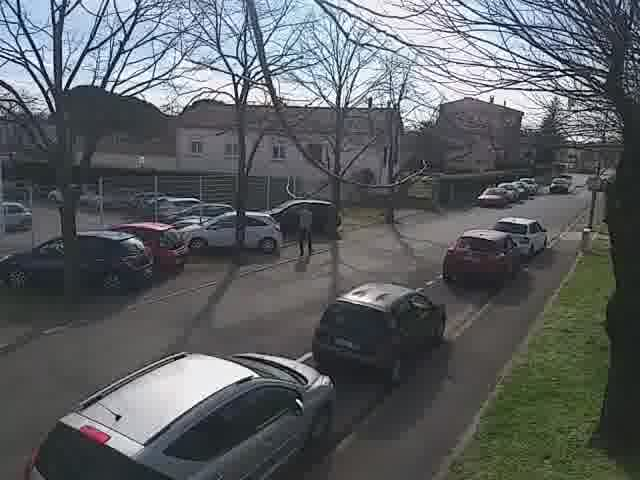persona: (289, 199, 319, 260)
